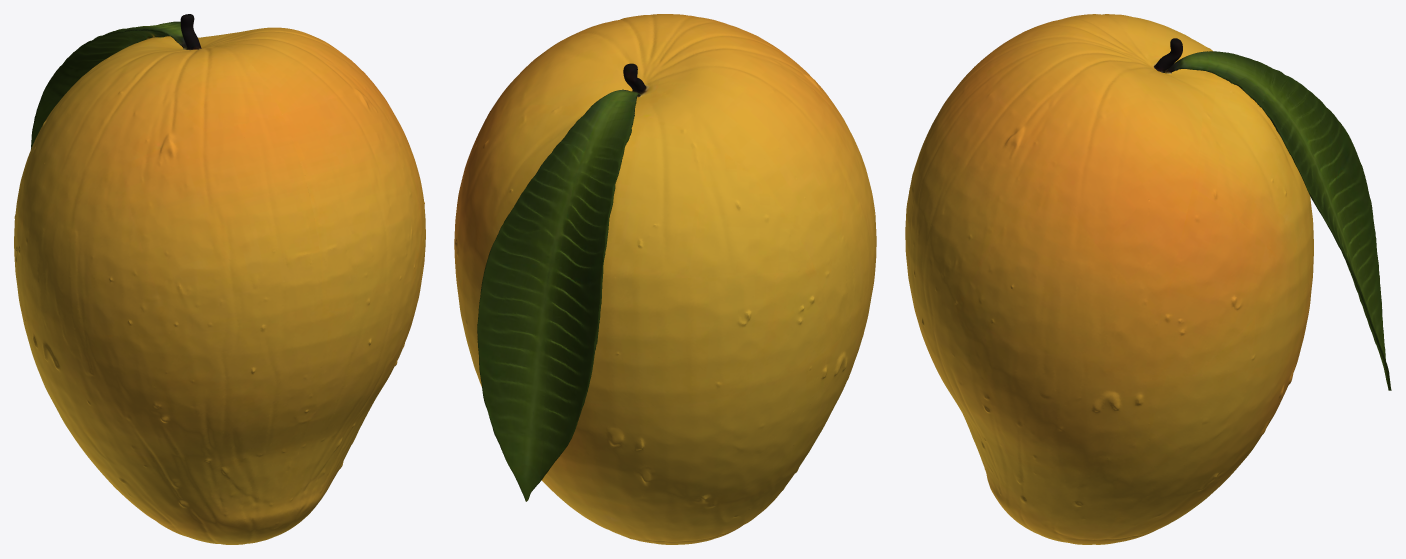
File: mango.glb
3 views of the same model, side by side, from view 1: azimuth 30°, elevation 25°; view 2: azimuth 150°, elevation 25°; view 3: azimuth 270°, elevation 25° (orthographic). The views are drawn at different scales.
Visible parts, largest first — view 1: tripo_node_f67766b1-62fc-4238-811b-0c2385418e82; view 2: tripo_node_f67766b1-62fc-4238-811b-0c2385418e82; view 3: tripo_node_f67766b1-62fc-4238-811b-0c2385418e82.
Boxes of the visible parts, x1,y1,x2,y2 form: tripo_node_f67766b1-62fc-4238-811b-0c2385418e82: (14,14,425,544); tripo_node_f67766b1-62fc-4238-811b-0c2385418e82: (454,14,876,544); tripo_node_f67766b1-62fc-4238-811b-0c2385418e82: (905,14,1391,544).
Size of the model in its own units: 0.7737 by 1 by 0.8946.
1 material, 1 textured.
